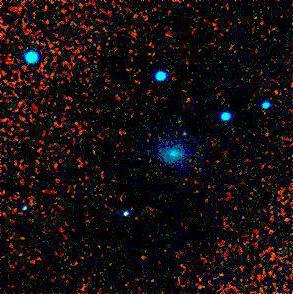star: (169, 118, 199, 148)
